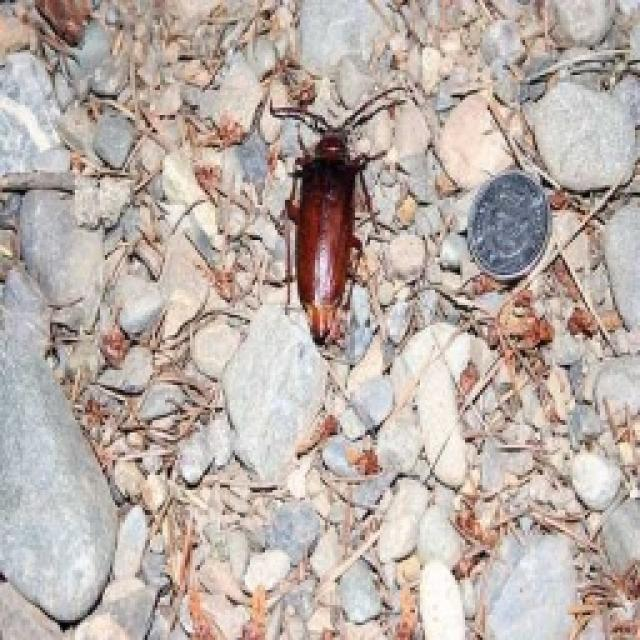cockroach: (262, 81, 414, 346)
